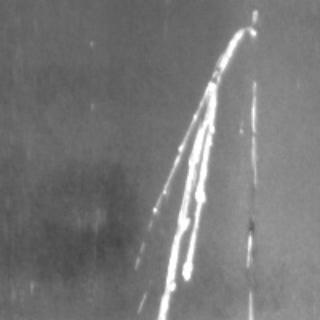scratches: (141, 26, 243, 314), (240, 72, 260, 218), (240, 222, 256, 318)
